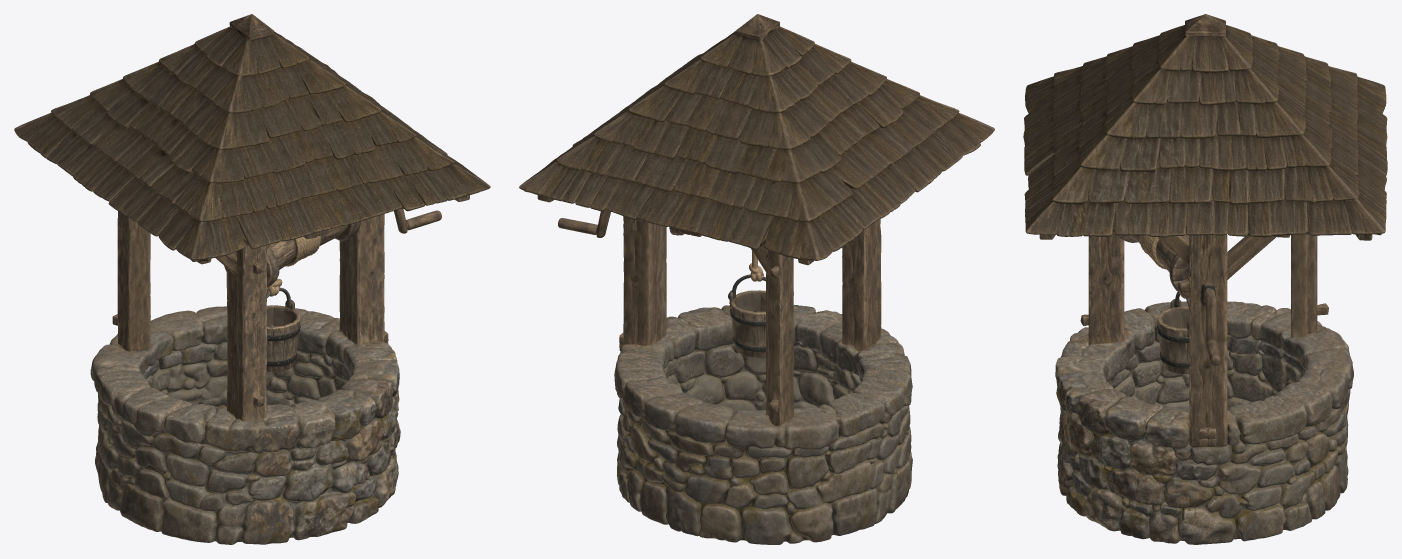
File: studnia_z_daszkiem.glb
3 views of the same model, side by side, from view 1: azimuth 30°, elevation 25°; view 2: azimuth 150°, elevation 25°; view 3: azimuth 270°, elevation 25° (orthographic).
Parts seen in each view (by area): view 1: Mesh_0; view 2: Mesh_0; view 3: Mesh_0.
Part boxes in pixels (x1,y1,x2,y2): Mesh_0: (14, 14, 490, 544); Mesh_0: (519, 14, 994, 544); Mesh_0: (1023, 14, 1387, 544).
Bounding box in the file's own units: 1.47 × 1.9 × 1.34.
Materials: 1 (1 with a texture image).
